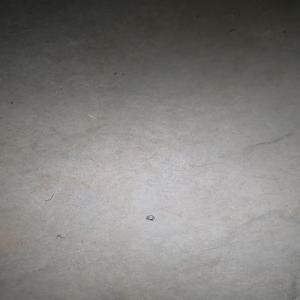Nut: (145, 215, 155, 221)
